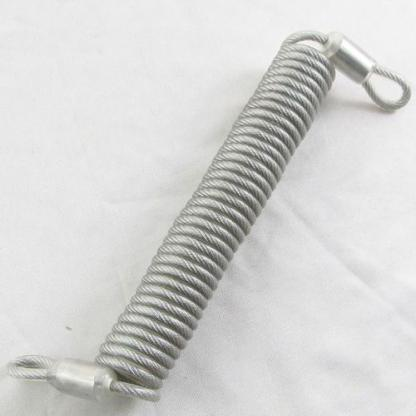FOD: (3, 28, 415, 411)
